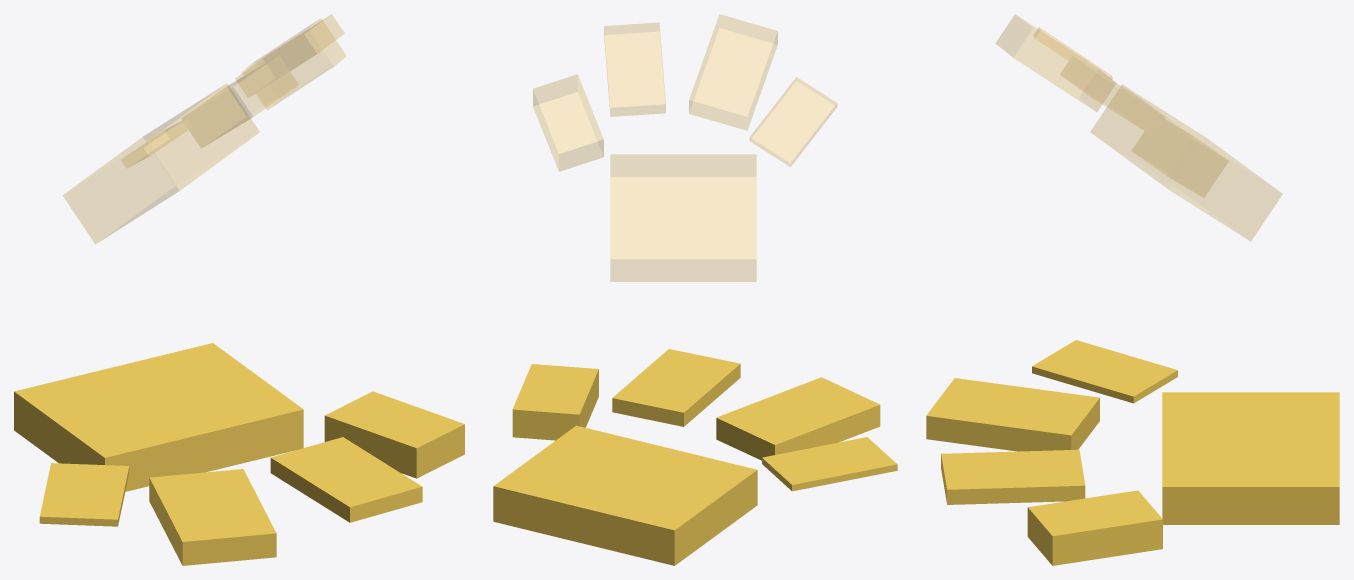
File: thepaw.2.fbx
The picture shows the model from 3 angles, left to right: view 1: azimuth 30°, elevation 25°; view 2: azimuth 150°, elevation 25°; view 3: azimuth 270°, elevation 25°; orthographic projection. The views are drawn at different scales.
Visible parts, largest first — view 1: paw_1, paw; view 2: paw_1, paw; view 3: paw_1, paw.
Part boxes in pixels (bbox=[...]): paw_1: bbox=[14, 343, 464, 565]; paw: bbox=[63, 14, 345, 243]; paw_1: bbox=[493, 349, 897, 565]; paw: bbox=[533, 14, 836, 281]; paw_1: bbox=[926, 340, 1339, 565]; paw: bbox=[996, 14, 1282, 241].
Size of the model in its own units: 16.23 by 17.43 by 14.41.
